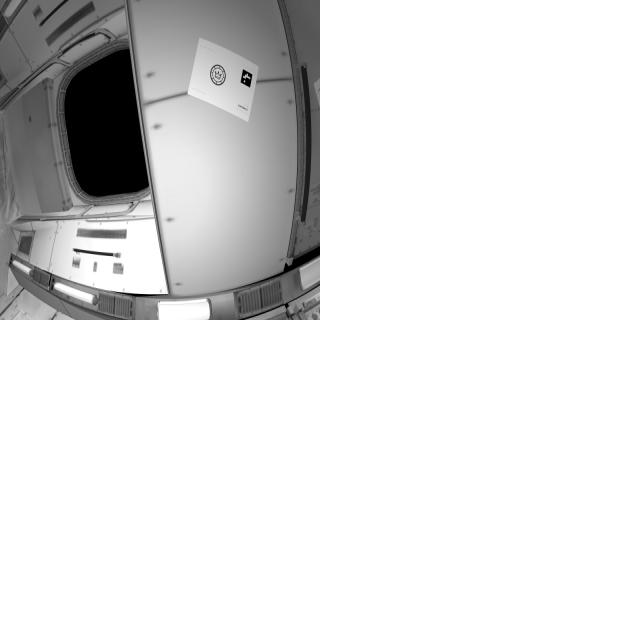coin: (210, 62, 229, 92)
